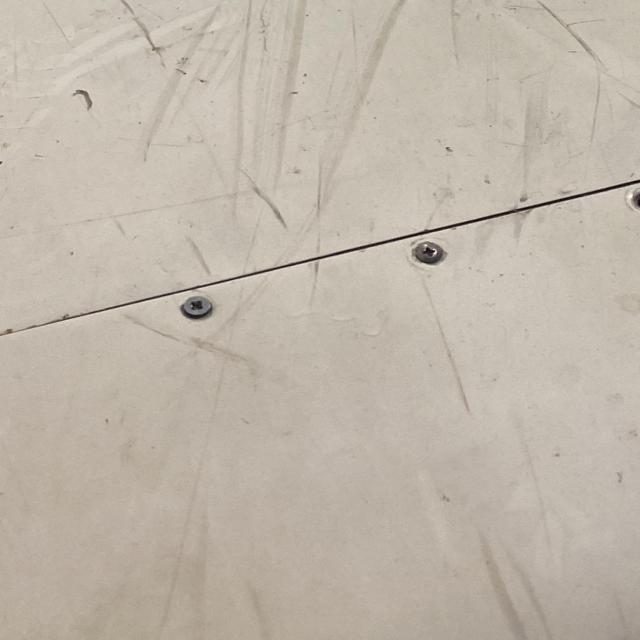Missing-head: (630, 191, 640, 212)
